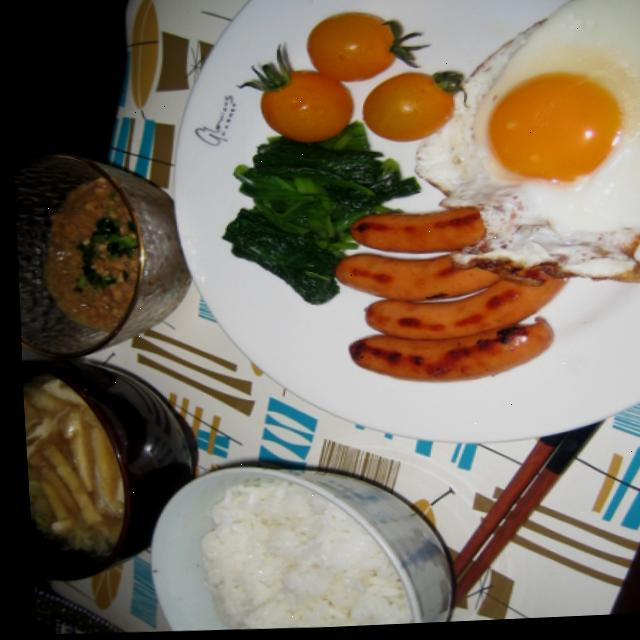汤锅炖物: (16, 344, 192, 593)
米饭主食: (121, 453, 470, 637)
鸡蛋料理: (397, 0, 640, 308)
